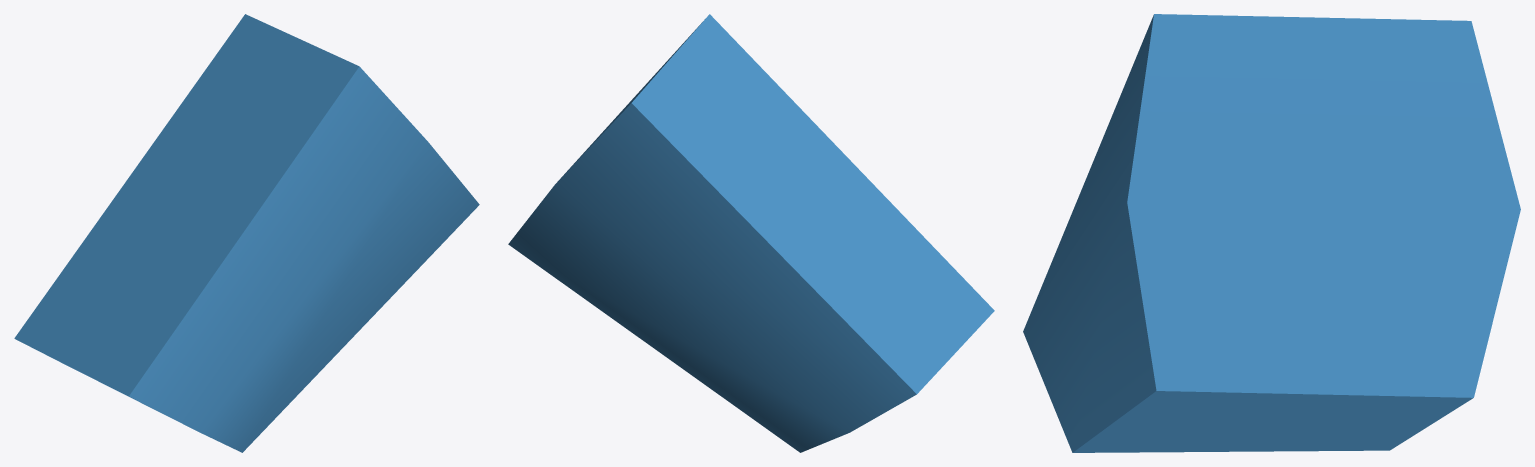
Rendered from Driver_Thumb_A_1.fbx.
3 renders of one model, left to right at view 1: azimuth 30°, elevation 25°; view 2: azimuth 150°, elevation 25°; view 3: azimuth 270°, elevation 25°, orthographic. The views are drawn at different scales.
Parts seen in each view (by area): view 1: Driver_Thumb_A_1; view 2: Driver_Thumb_A_1; view 3: Driver_Thumb_A_1.
Part boxes in pixels (bbox=[...]): Driver_Thumb_A_1: bbox=[14, 14, 479, 452]; Driver_Thumb_A_1: bbox=[508, 14, 994, 452]; Driver_Thumb_A_1: bbox=[1023, 14, 1520, 452].
Bounding box in the file's own units: 7.16 × 5.9 × 4.7.
